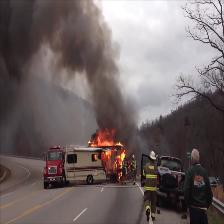smoke: (4, 6, 92, 47), (88, 71, 125, 123), (79, 53, 116, 66)
